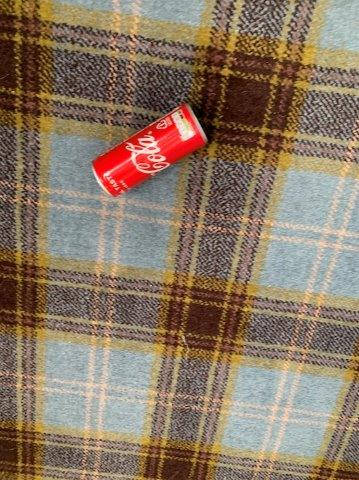kaleng: (93, 104, 206, 197)
